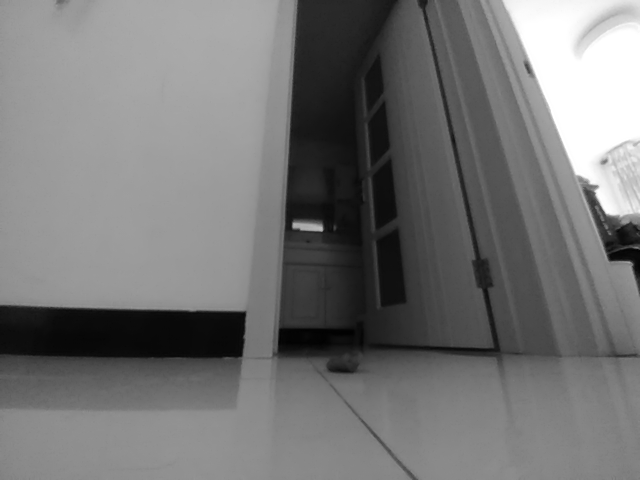pet feces: (325, 351, 362, 373)
